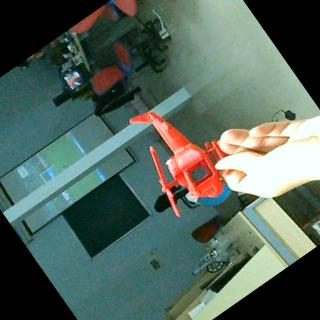Helicopter: (112, 85, 241, 224)
